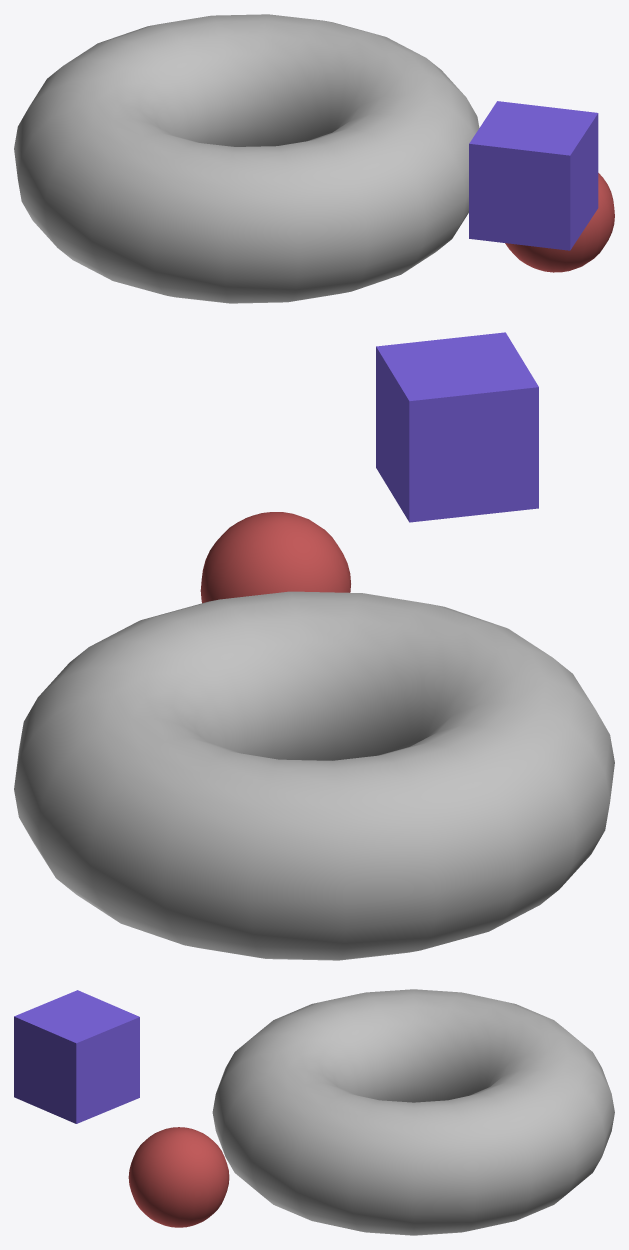
The picture shows the model from 3 angles, top to bottom: view 1: azimuth 30°, elevation 25°; view 2: azimuth 150°, elevation 25°; view 3: azimuth 270°, elevation 25°; orthographic projection. The views are drawn at different scales.
Bounding box in the file's own units: 8.27 × 4.21 × 11.93.
